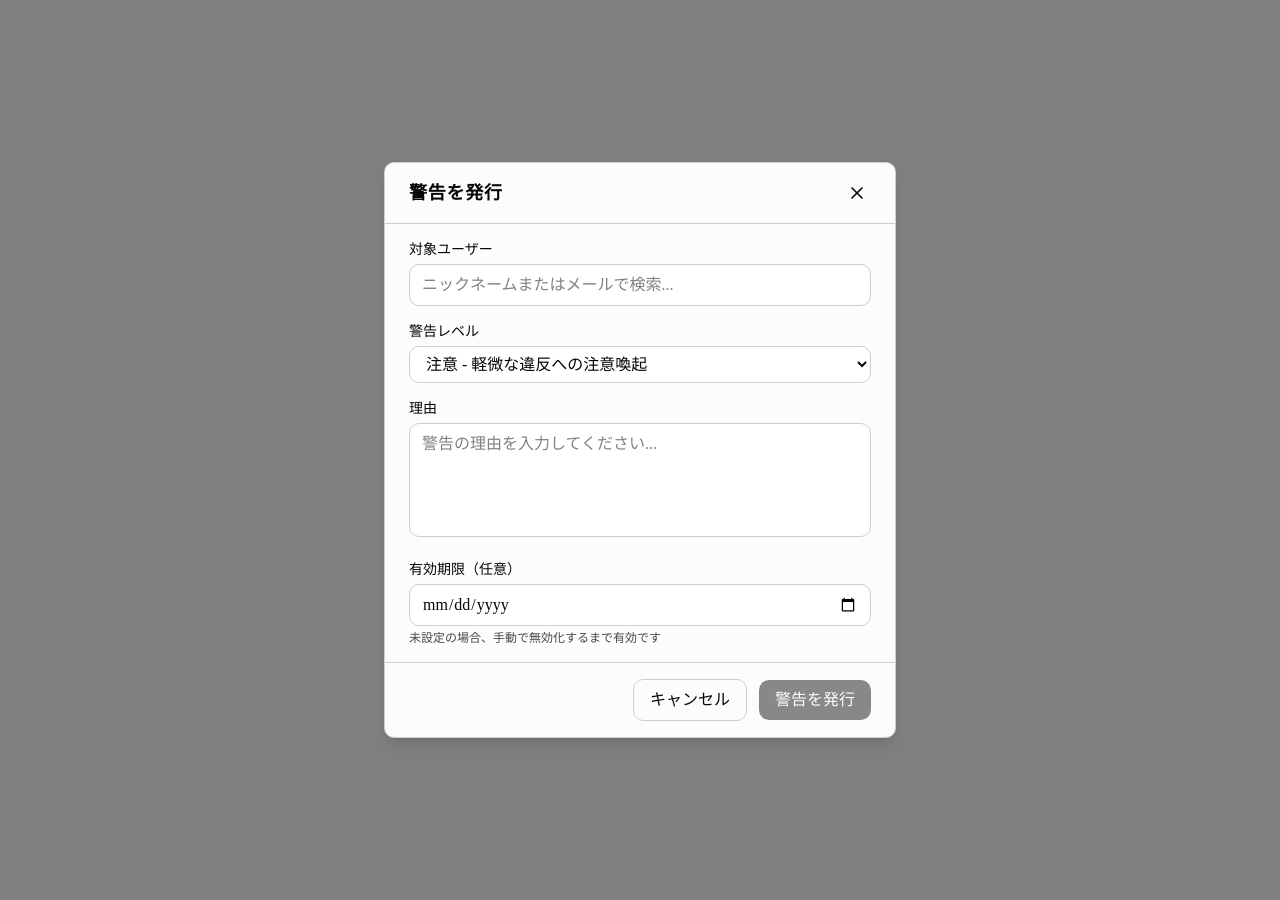
Test: IssueWarningDialog › clears selected user
This screenshot has width=1280, height=900.
Type "Nick" into the field with placeholder "ニックネームまたはメールで検索..." at (640, 285), box [409,264,871,306]
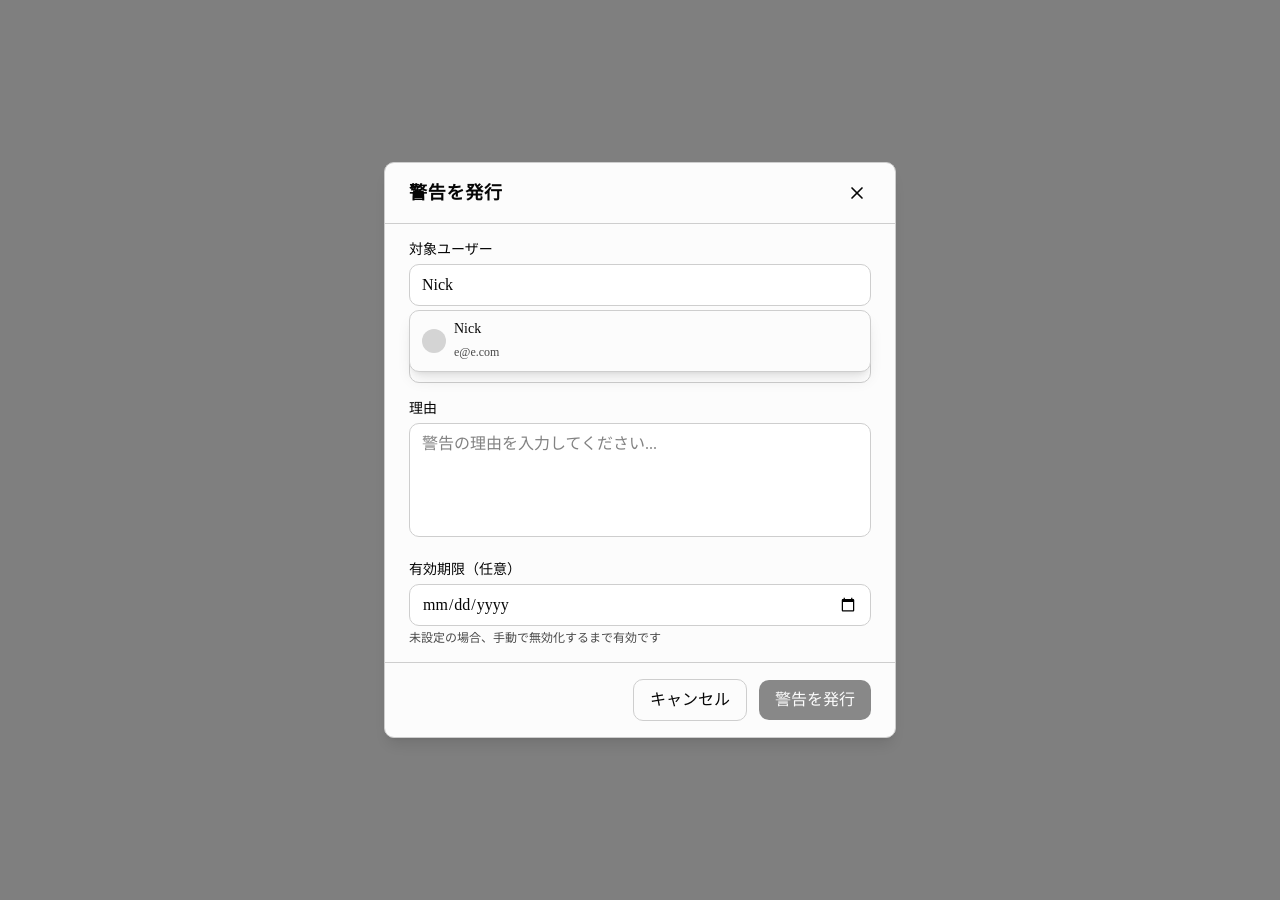
Now the text "Nick" is shown, box [454,321,481,336]
Click the button "Nick e@e.com" at (477, 352), box [410,311,870,371]
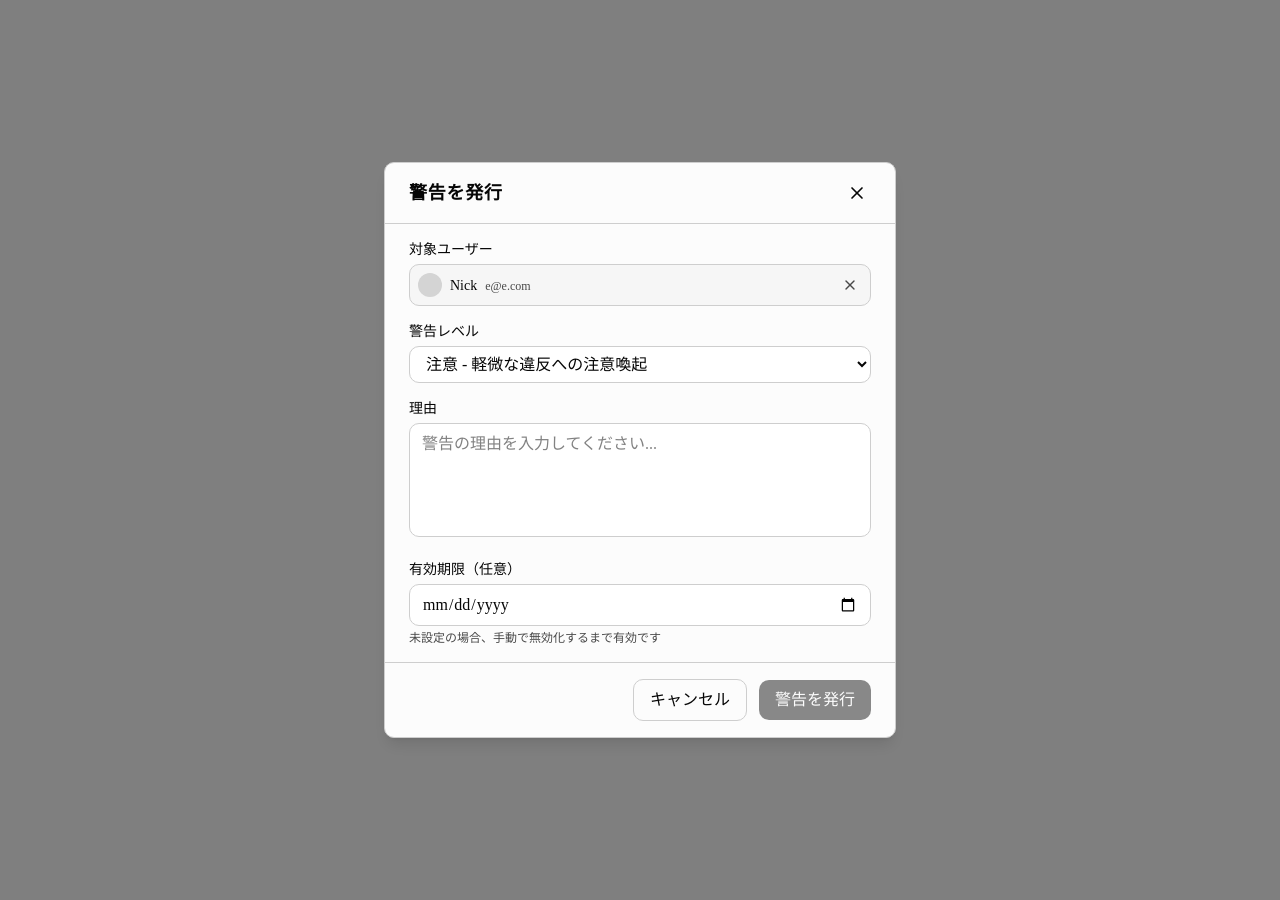
// Clear the user
Click the button named "ユーザー選択を解除" at (850, 285), box [838,273,862,297]
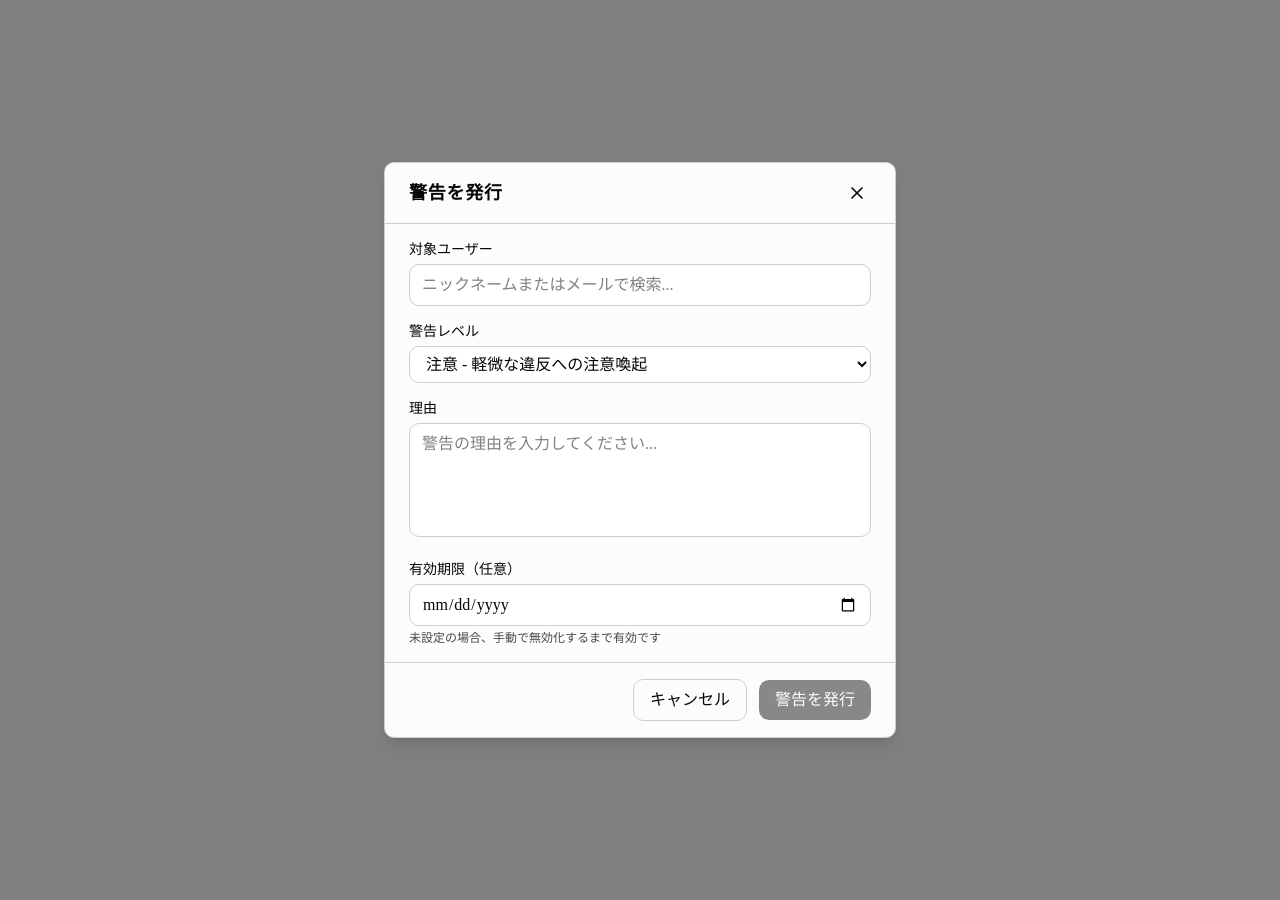
Now the field with placeholder "ニックネームまたはメールで検索..." is shown, box [409,264,871,306]
